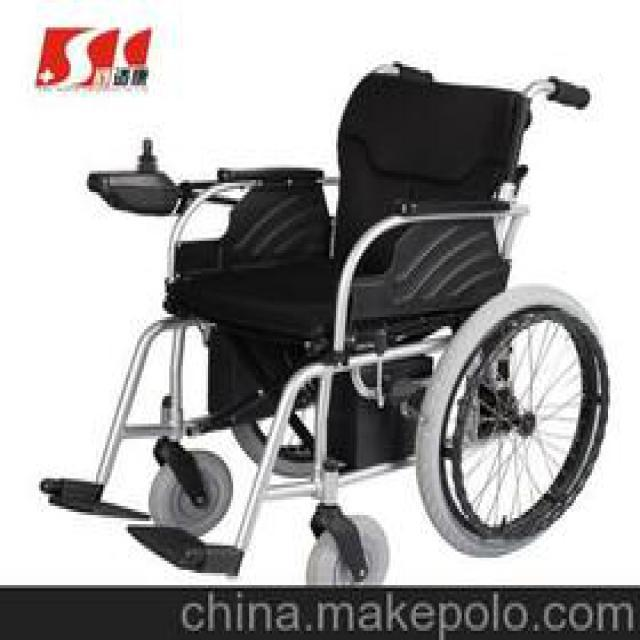wheelchair: (27, 58, 628, 570)
